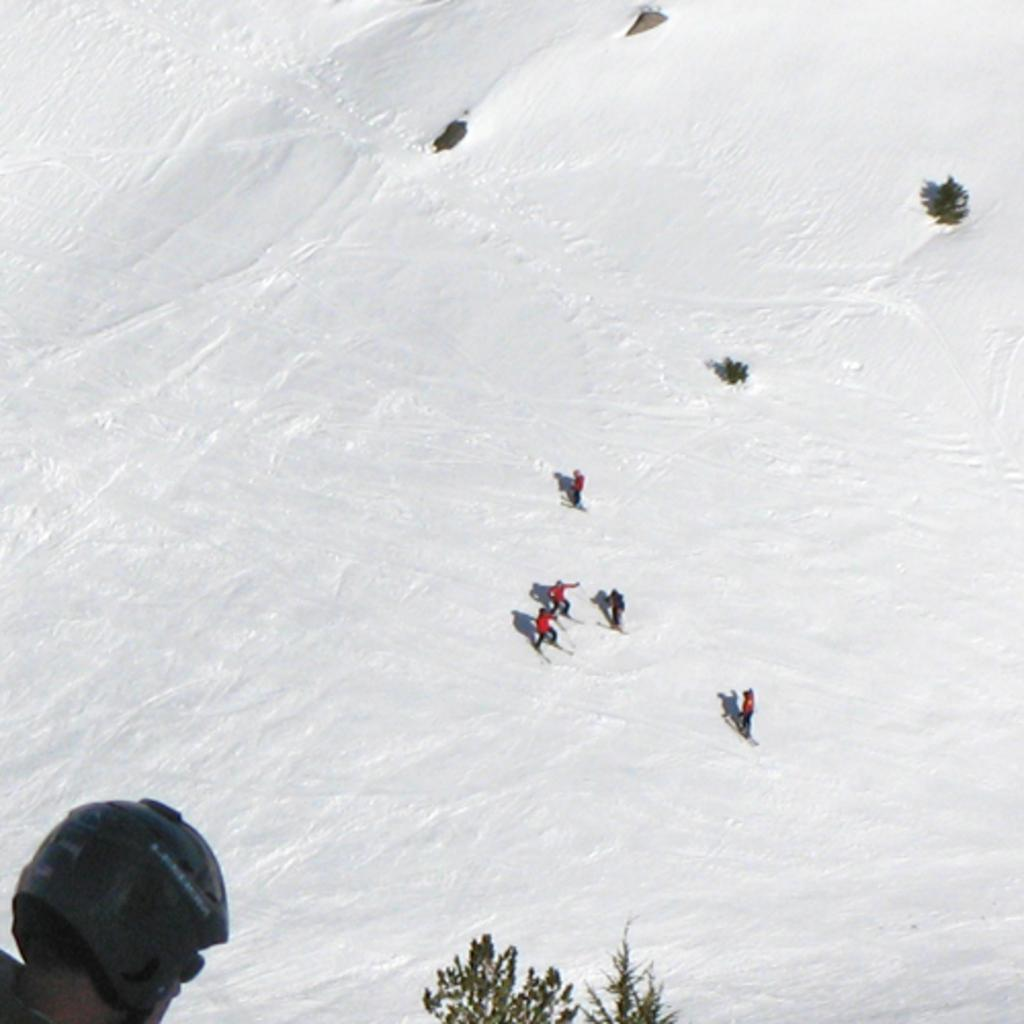helmet: (11, 799, 229, 1014)
